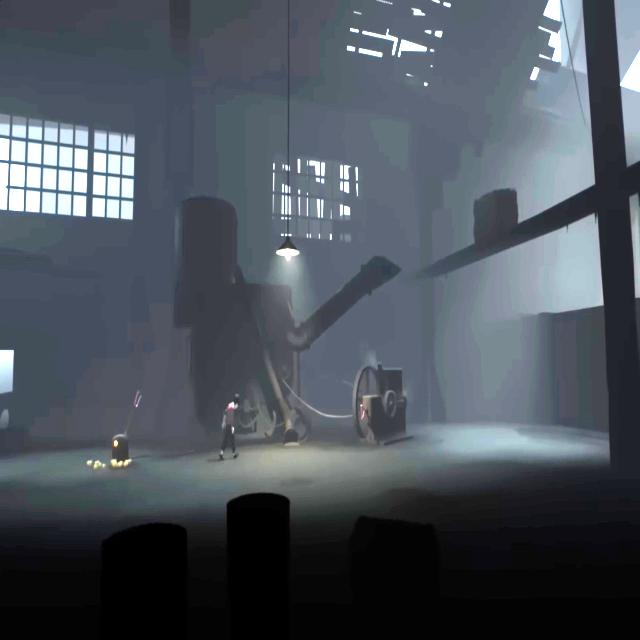boy: (219, 393, 239, 460)
